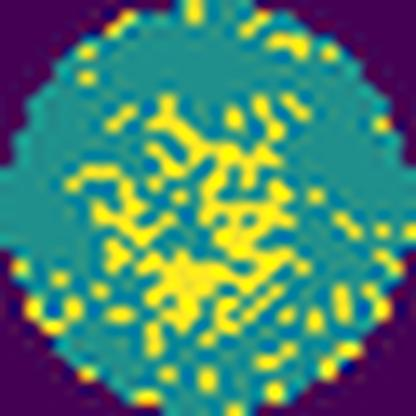Donut: (61, 86, 316, 346)
